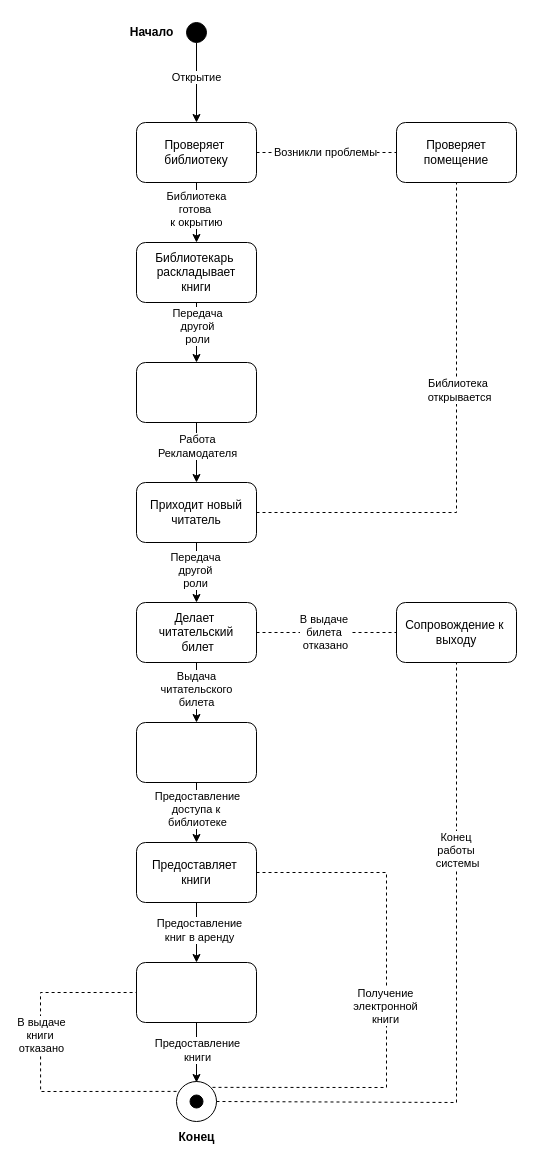
The diagram is 534 pixels wide and 1169 high, and some of its shapes have lost their labels. Here are the shapes that lost their labels. From the top down, the centre of each, then its label:
At (x=196, y=392): "Делает привлечение читателей".
At (x=196, y=752): "Добавляет читателя в базу".
At (x=196, y=992): "Берёт книги в аренду".
